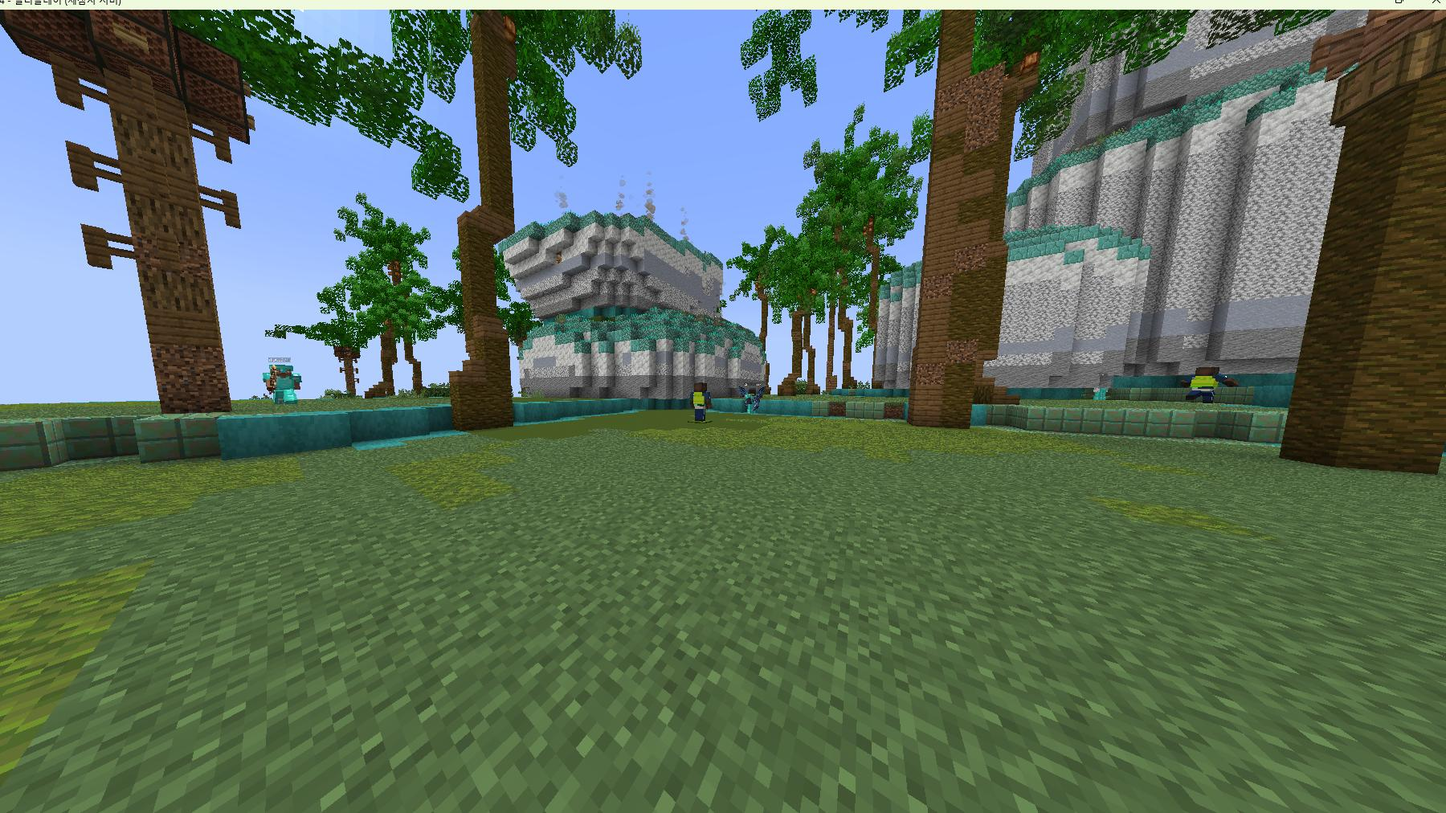Guardian: (1181, 367, 1238, 403), (688, 382, 711, 422)
